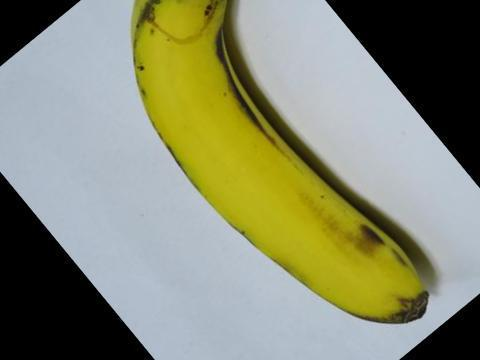freshripe: (117, 0, 434, 326)
